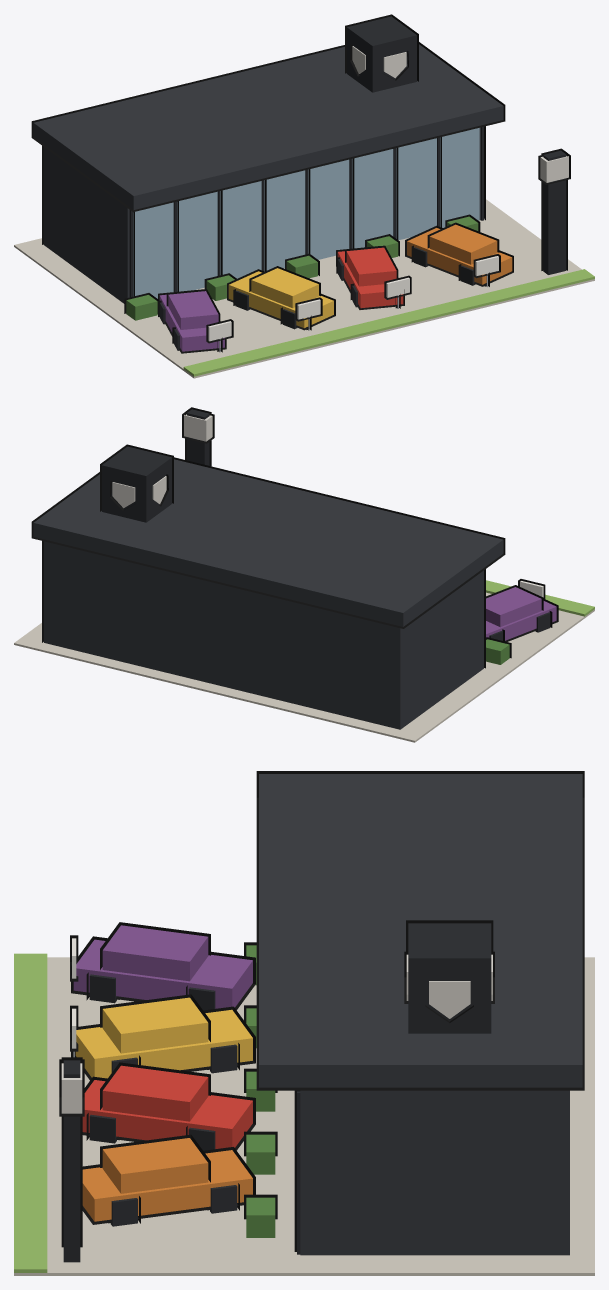
File: Dukkan_cadde_autohaus.fbx
3 renders of one model, top to bottom at view 1: azimuth 30°, elevation 25°; view 2: azimuth 150°, elevation 25°; view 3: azimuth 270°, elevation 25°, orthographic. The views are drawn at different scales.
Parts seen in each view (by area): view 1: Dukkan_cadde_autohaus; view 2: Dukkan_cadde_autohaus; view 3: Dukkan_cadde_autohaus.
Part boxes in pixels (bbox=[...]): Dukkan_cadde_autohaus: bbox=[14, 14, 594, 378]; Dukkan_cadde_autohaus: bbox=[14, 407, 594, 742]; Dukkan_cadde_autohaus: bbox=[14, 771, 594, 1275].
Size of the model in its own units: 18 by 7.33 by 14.
